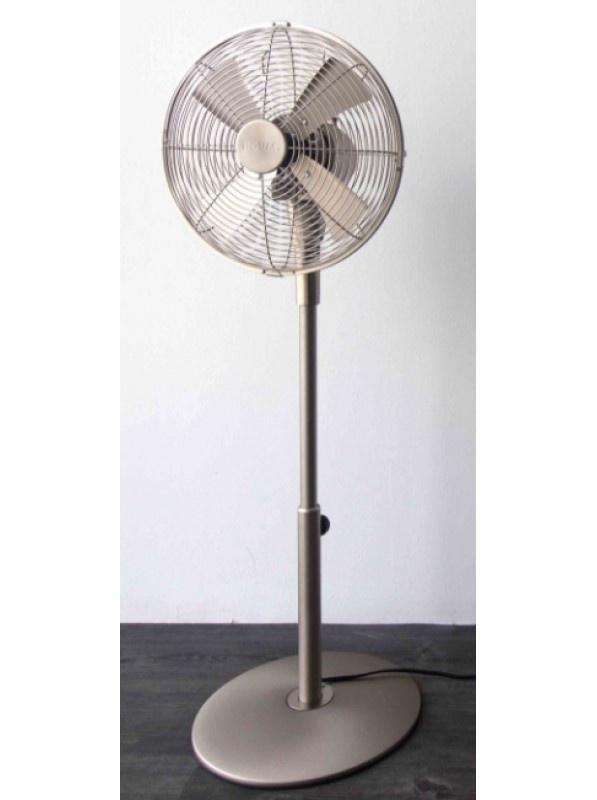fan: (145, 0, 432, 800)
